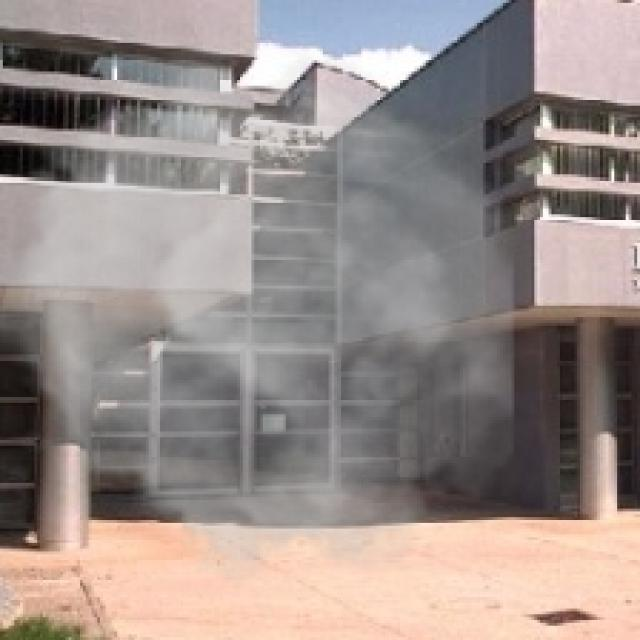smoke: (0, 42, 515, 589)
